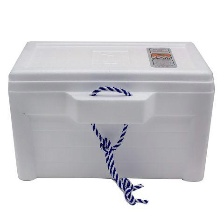foam_box: (2, 34, 218, 207)
